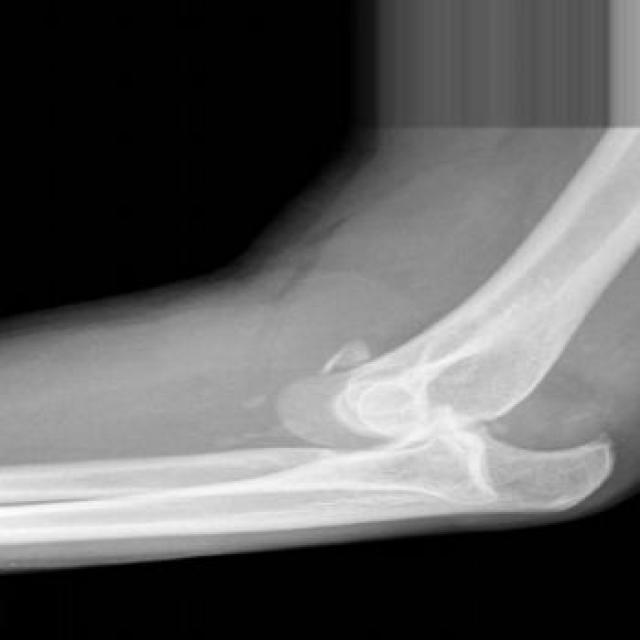Fracture: (474, 390, 617, 464)
